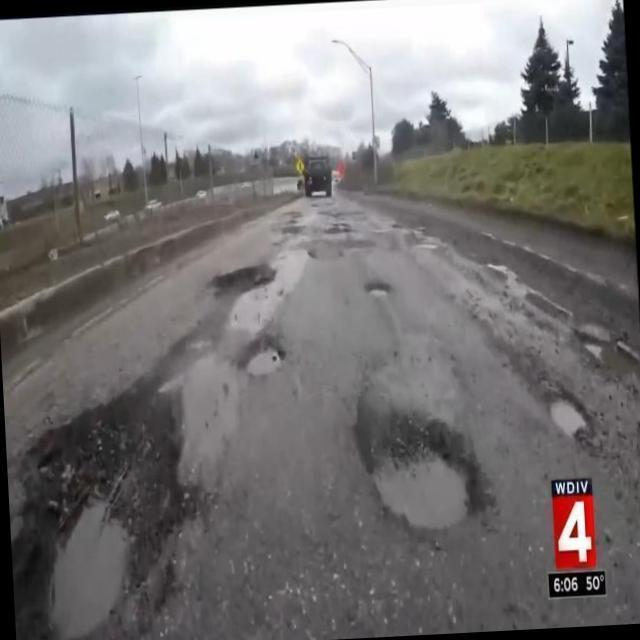Pothole: (25, 400, 166, 640), (370, 429, 478, 535), (217, 269, 275, 308), (550, 393, 587, 444), (243, 340, 282, 378)
